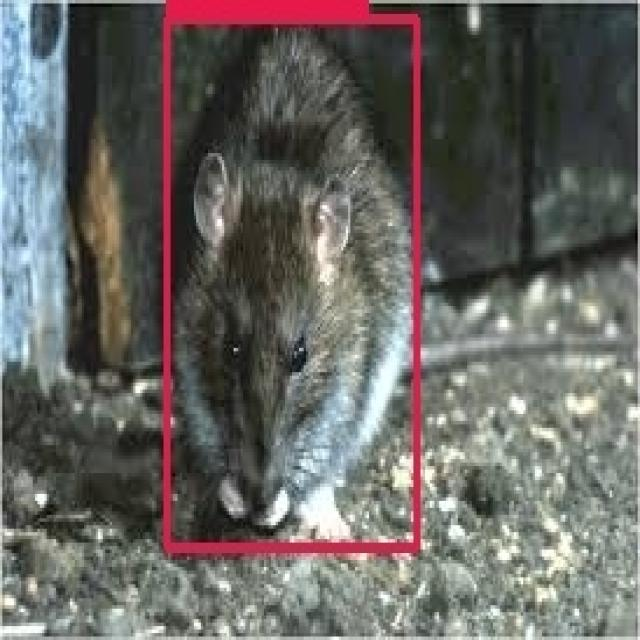rat: (164, 14, 414, 543)
